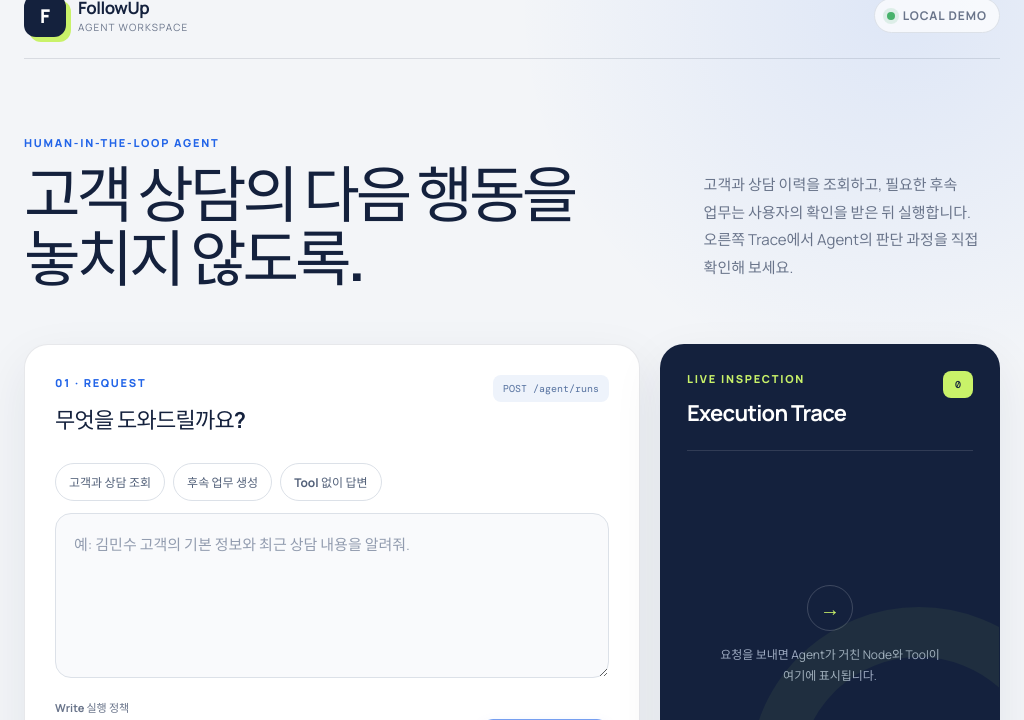
Scenario: App › 연속 승인에서는 각 화면에 대응하는 새 approvalId를 전송한다
This screenshot has width=1024, height=720.
Step 1. Click the button "후속 업무 생성" → (223, 482), box x1=173 y1=463 x2=272 y2=501
(page scrolled)
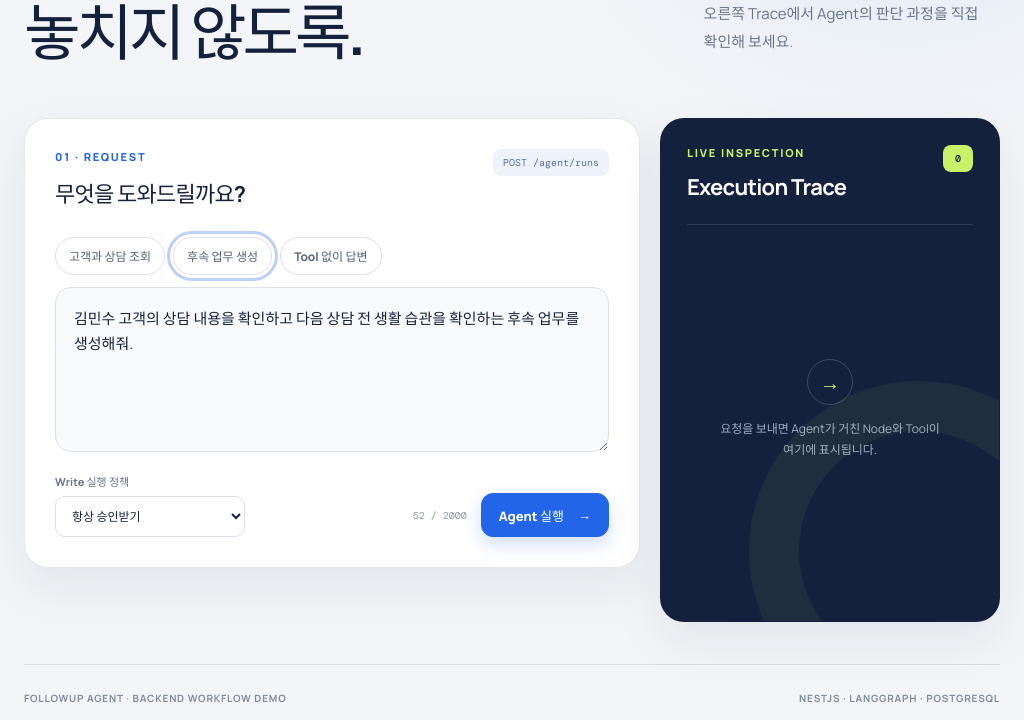
Step 2. Click the button "Agent 실행 →" → (545, 515), box x1=481 y1=493 x2=609 y2=537
(page scrolled)
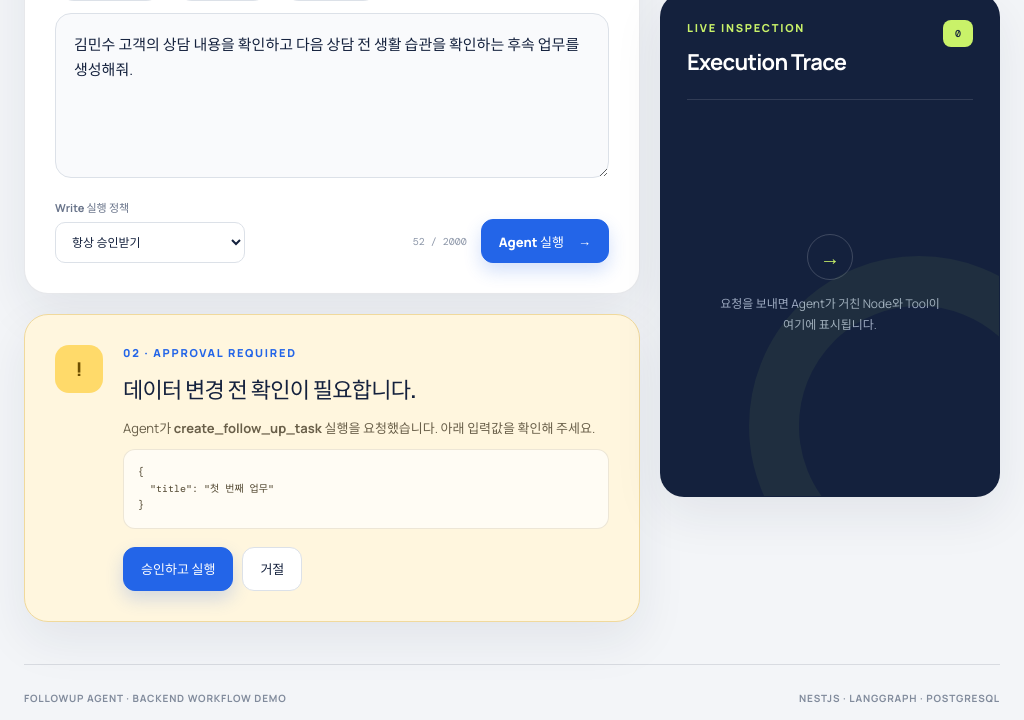
Expected: the text "{ \"title\": \"첫 번째 업무\" }" is shown, x1=123 y1=449 x2=609 y2=529
Step 3. Click the button "승인하고 실행" → (178, 569), box x1=123 y1=547 x2=233 y2=591
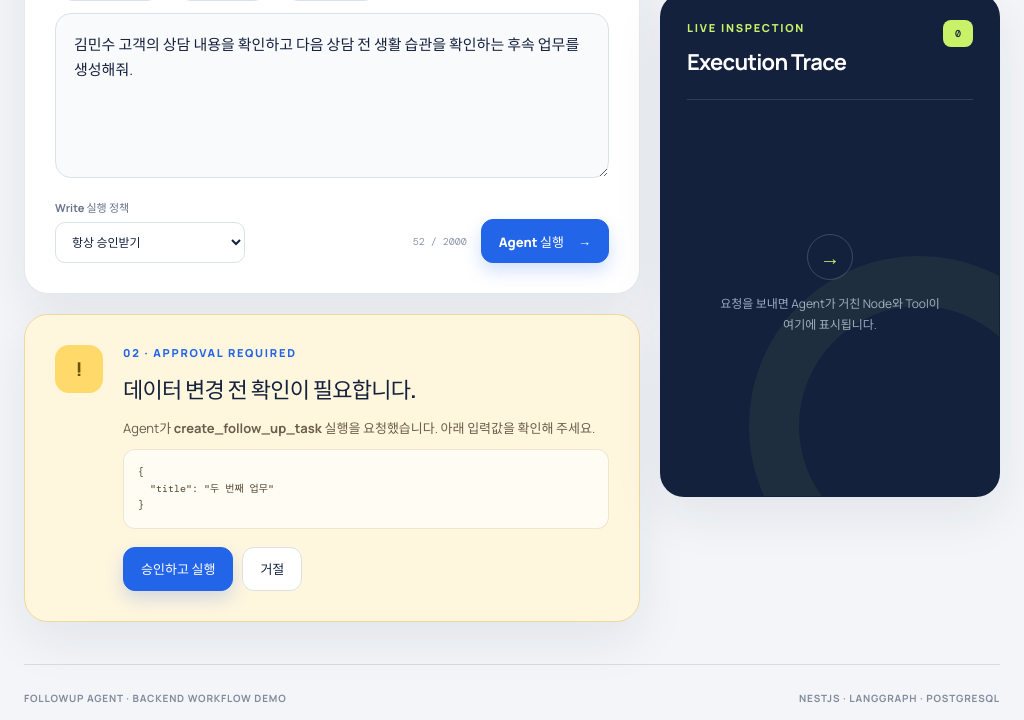
Expected: the text "{ \"title\": \"두 번째 업무\" }" is shown, x1=123 y1=449 x2=609 y2=529
Step 4. Click the button "승인하고 실행" → (178, 569), box x1=123 y1=547 x2=233 y2=591
(page scrolled)
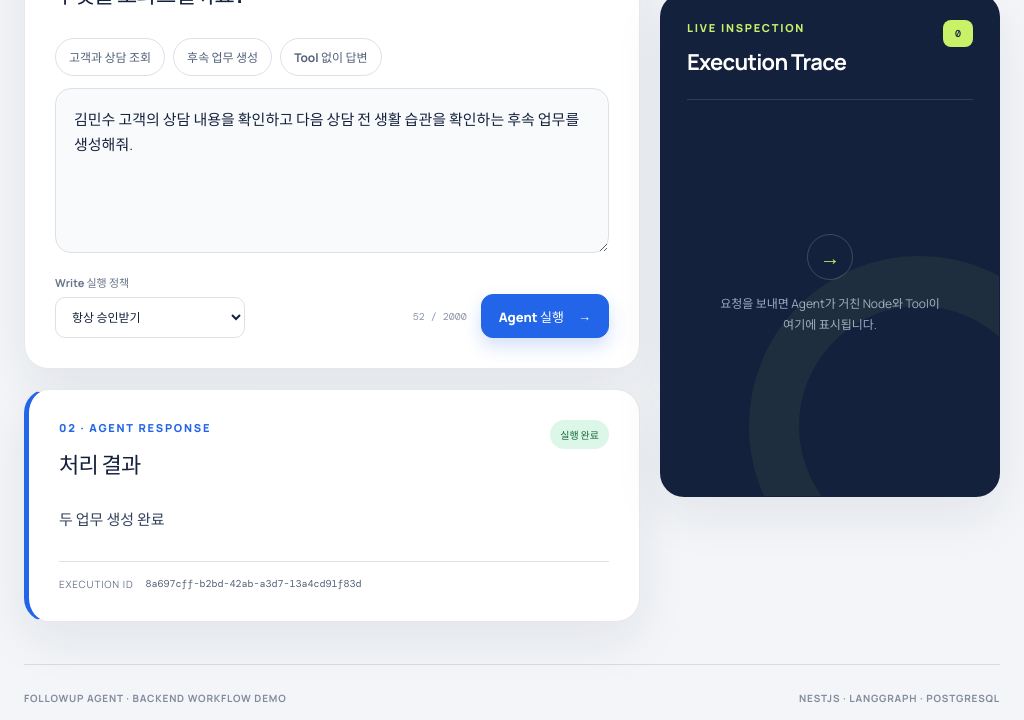
Expected: the text "두 업무 생성 완료" is shown, x1=59 y1=509 x2=165 y2=530
